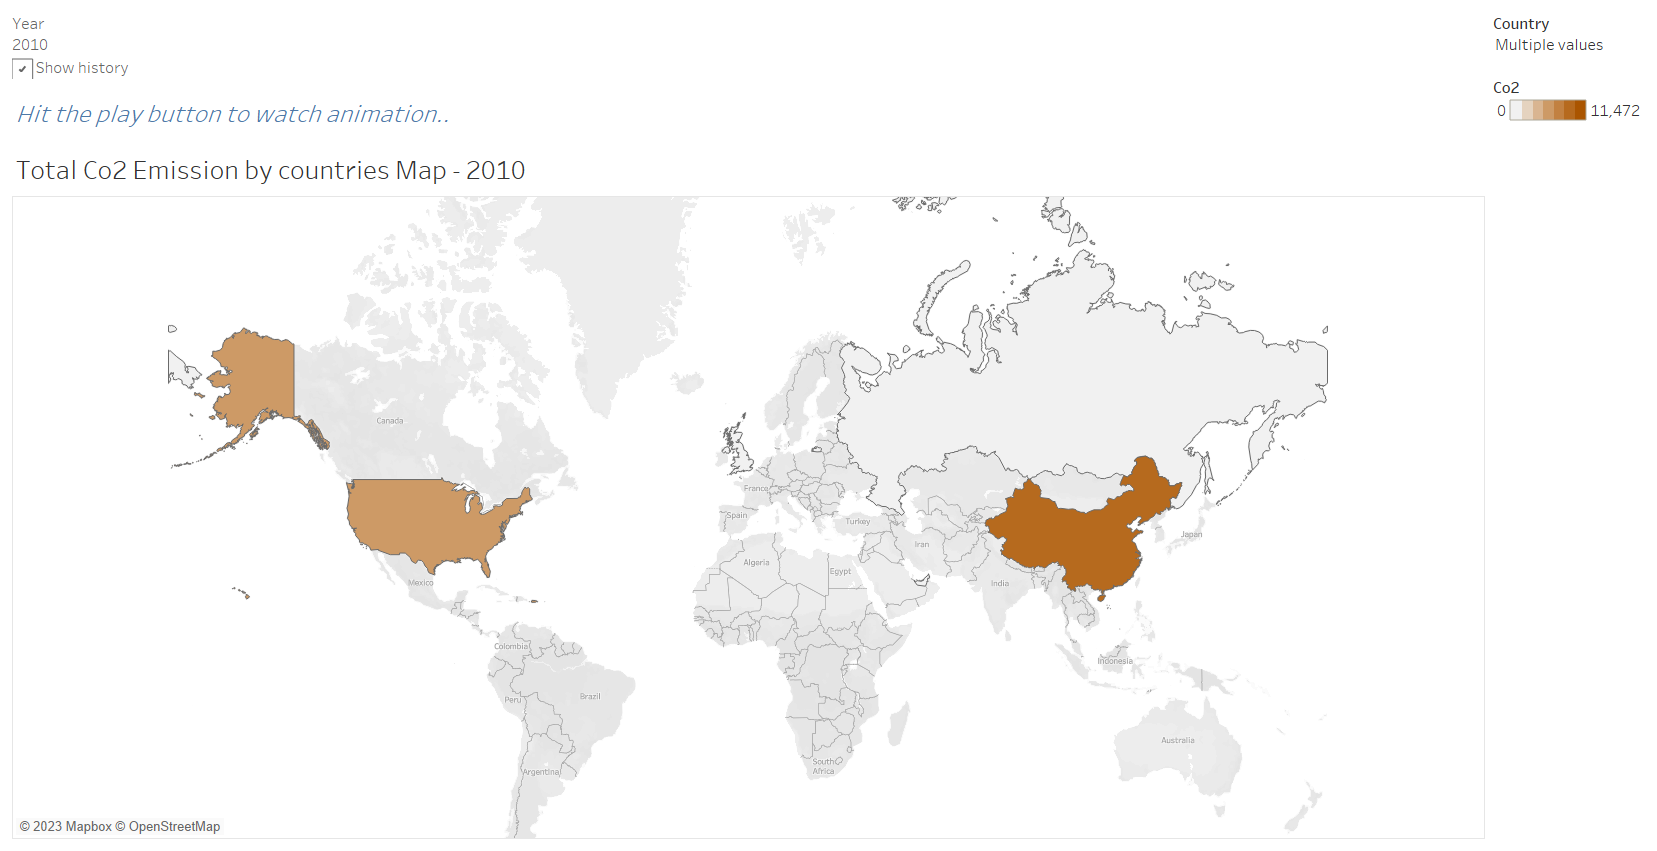

What the dashboard file says about the page in this screenshot:
{"tool":"tableau","page":{"name":"Co2 Emission Map","canvas":[1000,1000],"units":"permille","ordinal":0},"visuals":[{"type":"currpage","title":"Total Co2 Emission by countries Map","box":[4.8,9.4,893.8,88.1]},{"type":"filter","title":"Total Co2 Emission by countries Map","param":"[federated.11hnmx00splwlf16n3ti71uejiao].[none:country:nk]","box":[898.6,9.4,96.6,71.7]},{"type":"legend","title":"Total Co2 Emission by countries Map","param":"[federated.11hnmx00splwlf16n3ti71uejiao].[sum:co2:qk]","box":[898.6,81.1,96.6,85.8]},{"type":"text","box":[4.8,97.5,893.8,69.3]},{"type":"worksheet","title":"Total Co2 Emission by countries Map","mark":"Automatic","box":[4.8,166.9,893.8,823.7]}]}

Visuals, with their boxes on the dashboard's canvas, which has no fixed pixel size, in thousandths of its width and height (x1, y1, x2, y2). These are canvas units, not pixel positions in the 1657x851 screenshot, which may show the page scaled, cropped or inside an application window:
"Total Co2 Emission by countries Map" currpage: bbox=(5, 9, 899, 98)
"Total Co2 Emission by countries Map" filter: bbox=(899, 9, 995, 81)
"Total Co2 Emission by countries Map" legend: bbox=(899, 81, 995, 167)
text: bbox=(5, 98, 899, 167)
"Total Co2 Emission by countries Map" worksheet: bbox=(5, 167, 899, 991)
